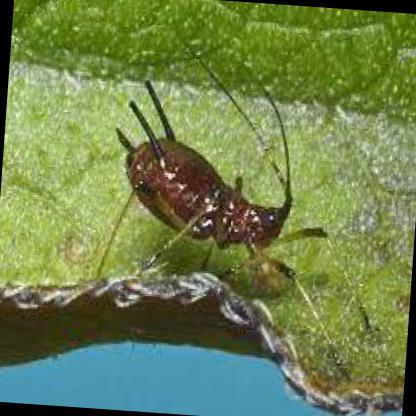uroleucon compositae: (117, 78, 323, 279)
